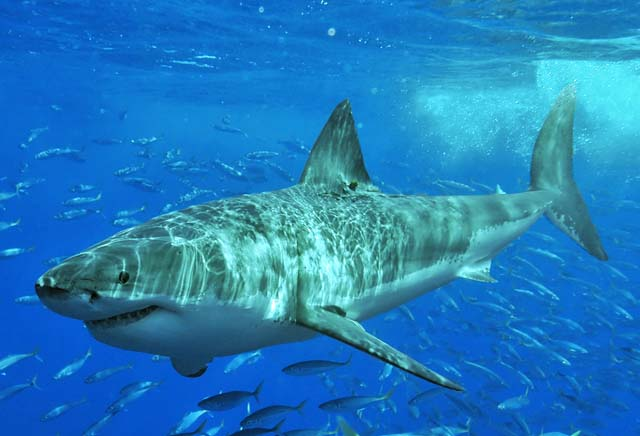Carcharodon_carcharias: (16, 93, 639, 424)
